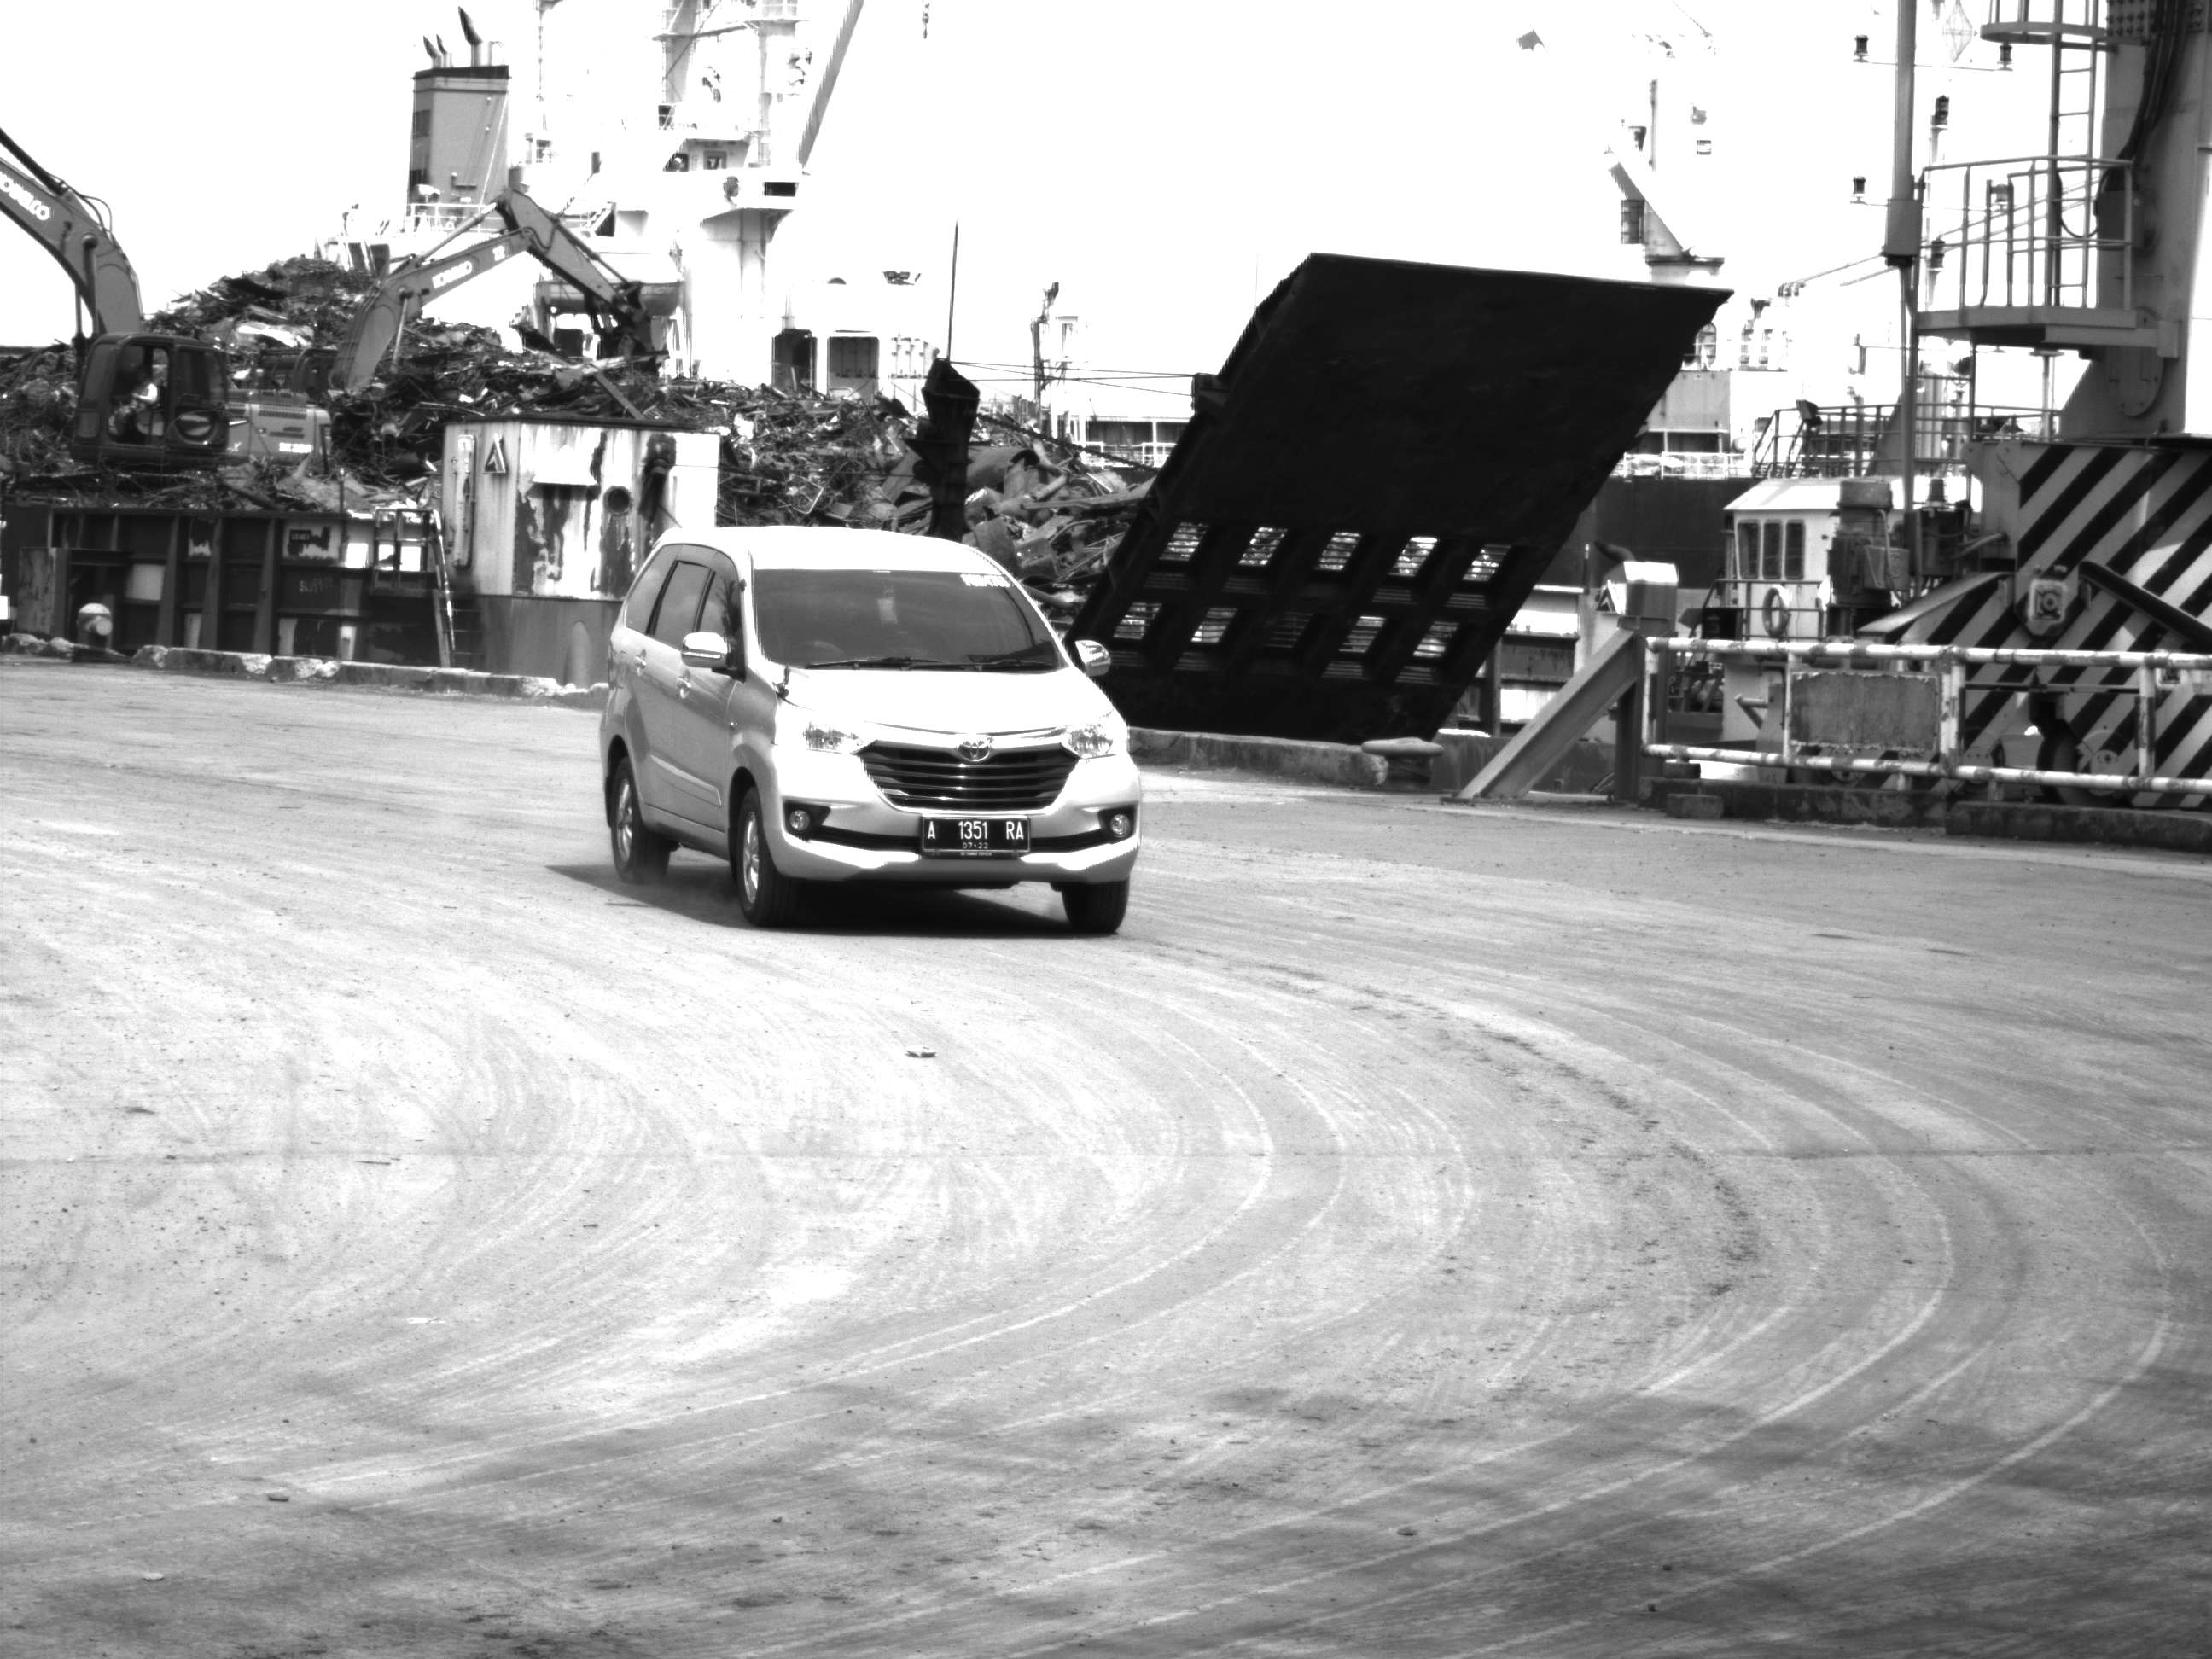car: (589, 518, 1150, 950)
